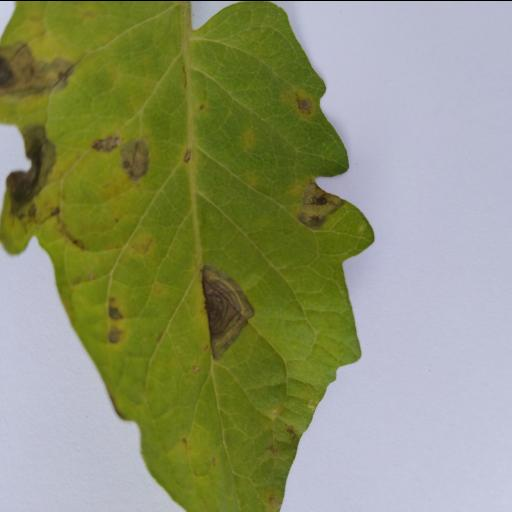disease_tomato: (0, 0, 377, 512)
